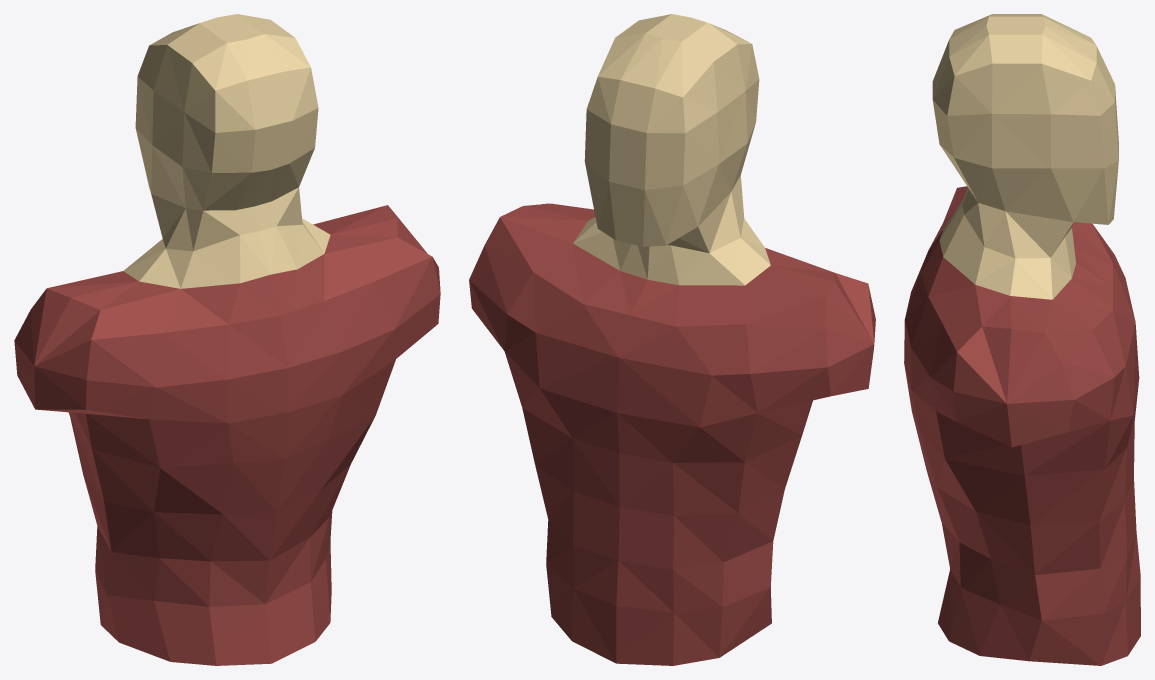
The model's file is TempMan.dae.
3 renders of one model, left to right at view 1: azimuth 30°, elevation 25°; view 2: azimuth 150°, elevation 25°; view 3: azimuth 270°, elevation 25°, orthographic. The views are drawn at different scales.
Visible parts, largest first — view 1: Cube_001; view 2: Cube_001; view 3: Cube_001.
Part boxes in pixels (box(x1,y1,x2,y2)): Cube_001: box(14, 14, 440, 665); Cube_001: box(469, 14, 875, 665); Cube_001: box(904, 14, 1140, 665).
Size of the model in its own units: 3.44 by 1.77 by 5.03.
